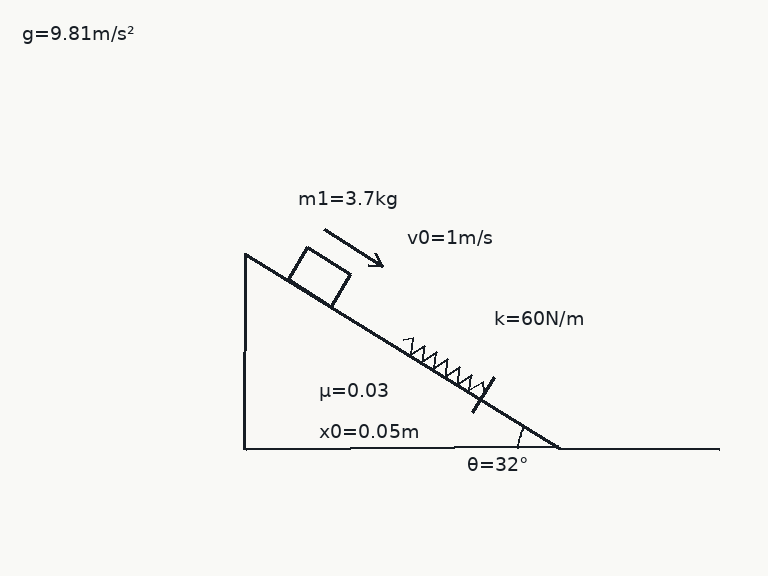block: (285, 245, 352, 308)
ramp: (243, 250, 560, 450)
spring: (401, 336, 487, 393)
